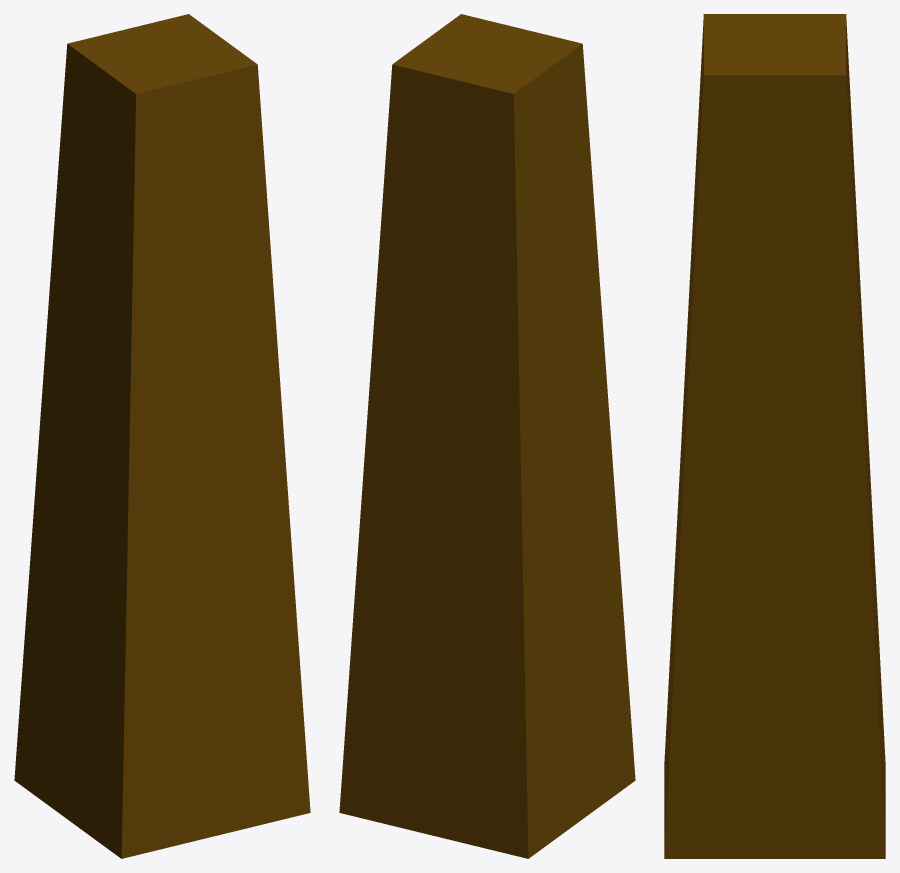
The model's file is TreeBody.fbx.
3 views of the same model, side by side, from view 1: azimuth 30°, elevation 25°; view 2: azimuth 150°, elevation 25°; view 3: azimuth 270°, elevation 25° (orthographic). The views are drawn at different scales.
Parts seen in each view (by area): view 1: Pine.001; view 2: Pine.001; view 3: Pine.001.
Boxes of the visible parts, <box> form: Pine.001: <box>14,14,310,858</box>; Pine.001: <box>339,14,635,858</box>; Pine.001: <box>664,14,885,858</box>.
Bounding box in the file's own units: 106 × 396 × 104.
